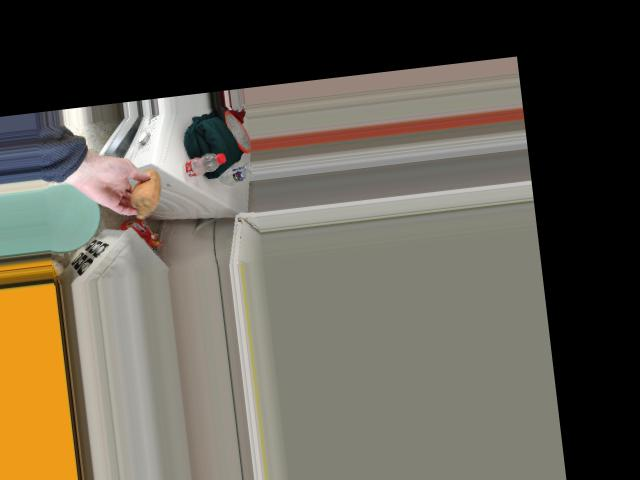sweet_potato: (123, 170, 164, 215)
